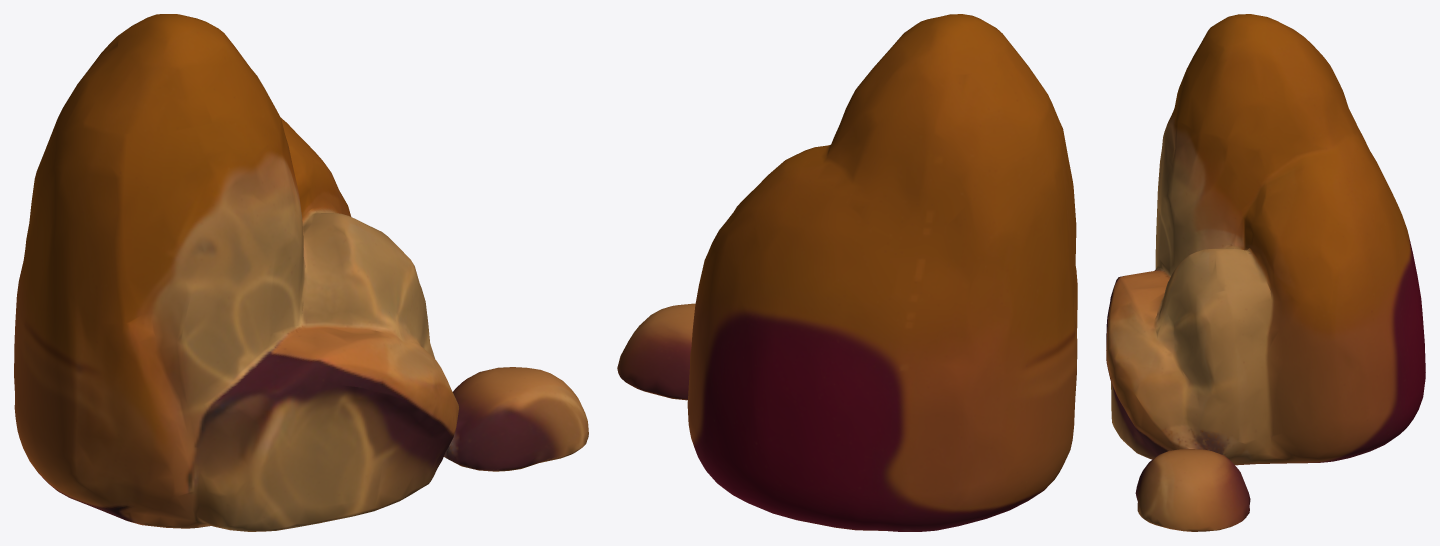
Rendered from desert-rocks-clean_web.glb.
3 views of the same model, side by side, from view 1: azimuth 30°, elevation 25°; view 2: azimuth 150°, elevation 25°; view 3: azimuth 270°, elevation 25° (orthographic). The views are drawn at different scales.
Parts seen in each view (by area): view 1: LOD0; view 2: LOD0; view 3: LOD0.
Part boxes in pixels (x1=…): LOD0: x1=14, y1=14, x2=588, y2=531; LOD0: x1=617, y1=14, x2=1077, y2=531; LOD0: x1=1106, y1=14, x2=1425, y2=531.
Size of the model in its own units: 1.99 by 1.81 by 1.41.
1 material, 1 textured.
